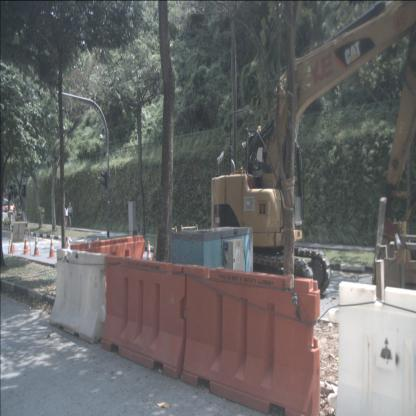barrier: (183, 266, 320, 416), (335, 282, 416, 416), (101, 257, 187, 379), (49, 248, 109, 344), (70, 236, 145, 298)
cone: (47, 236, 56, 258), (8, 233, 17, 254), (22, 234, 31, 254), (33, 235, 41, 257), (145, 240, 152, 262), (66, 236, 70, 258)
